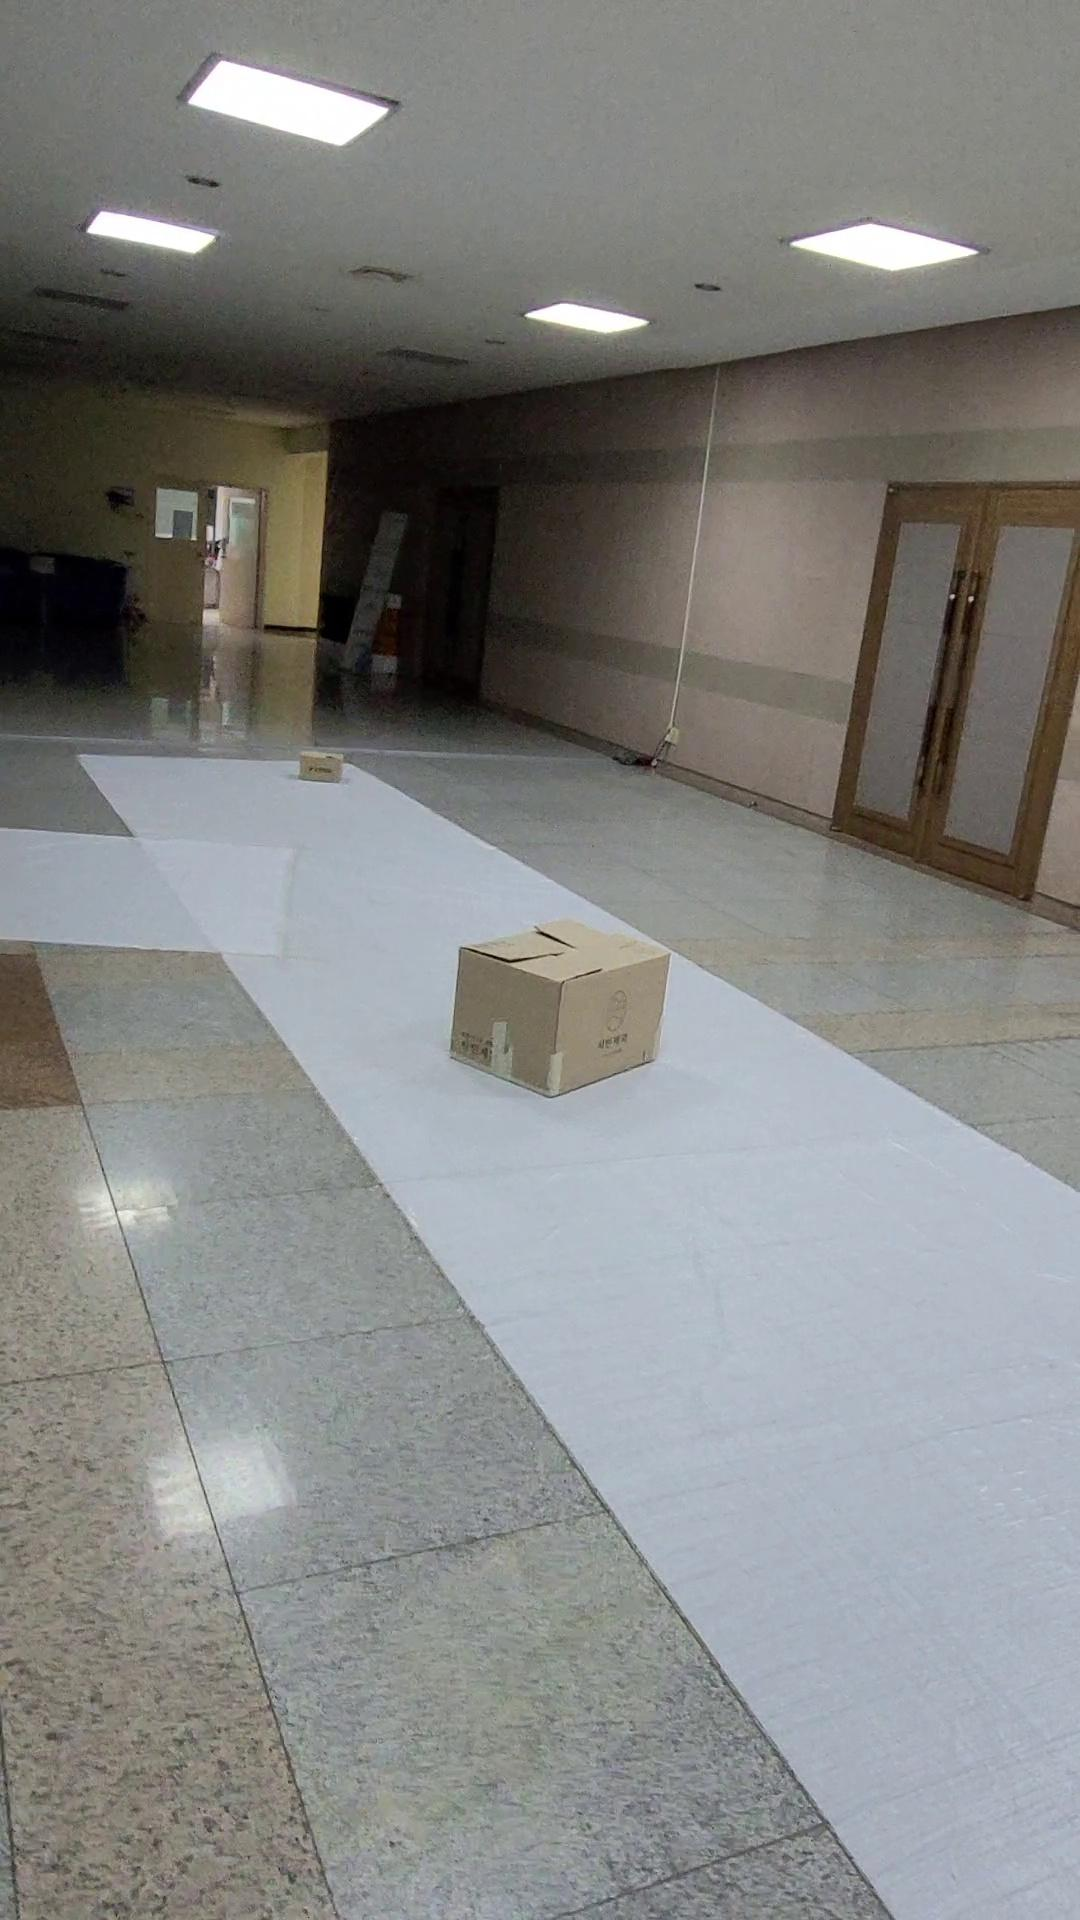Box: (404, 893, 707, 1120), (273, 728, 380, 804)
